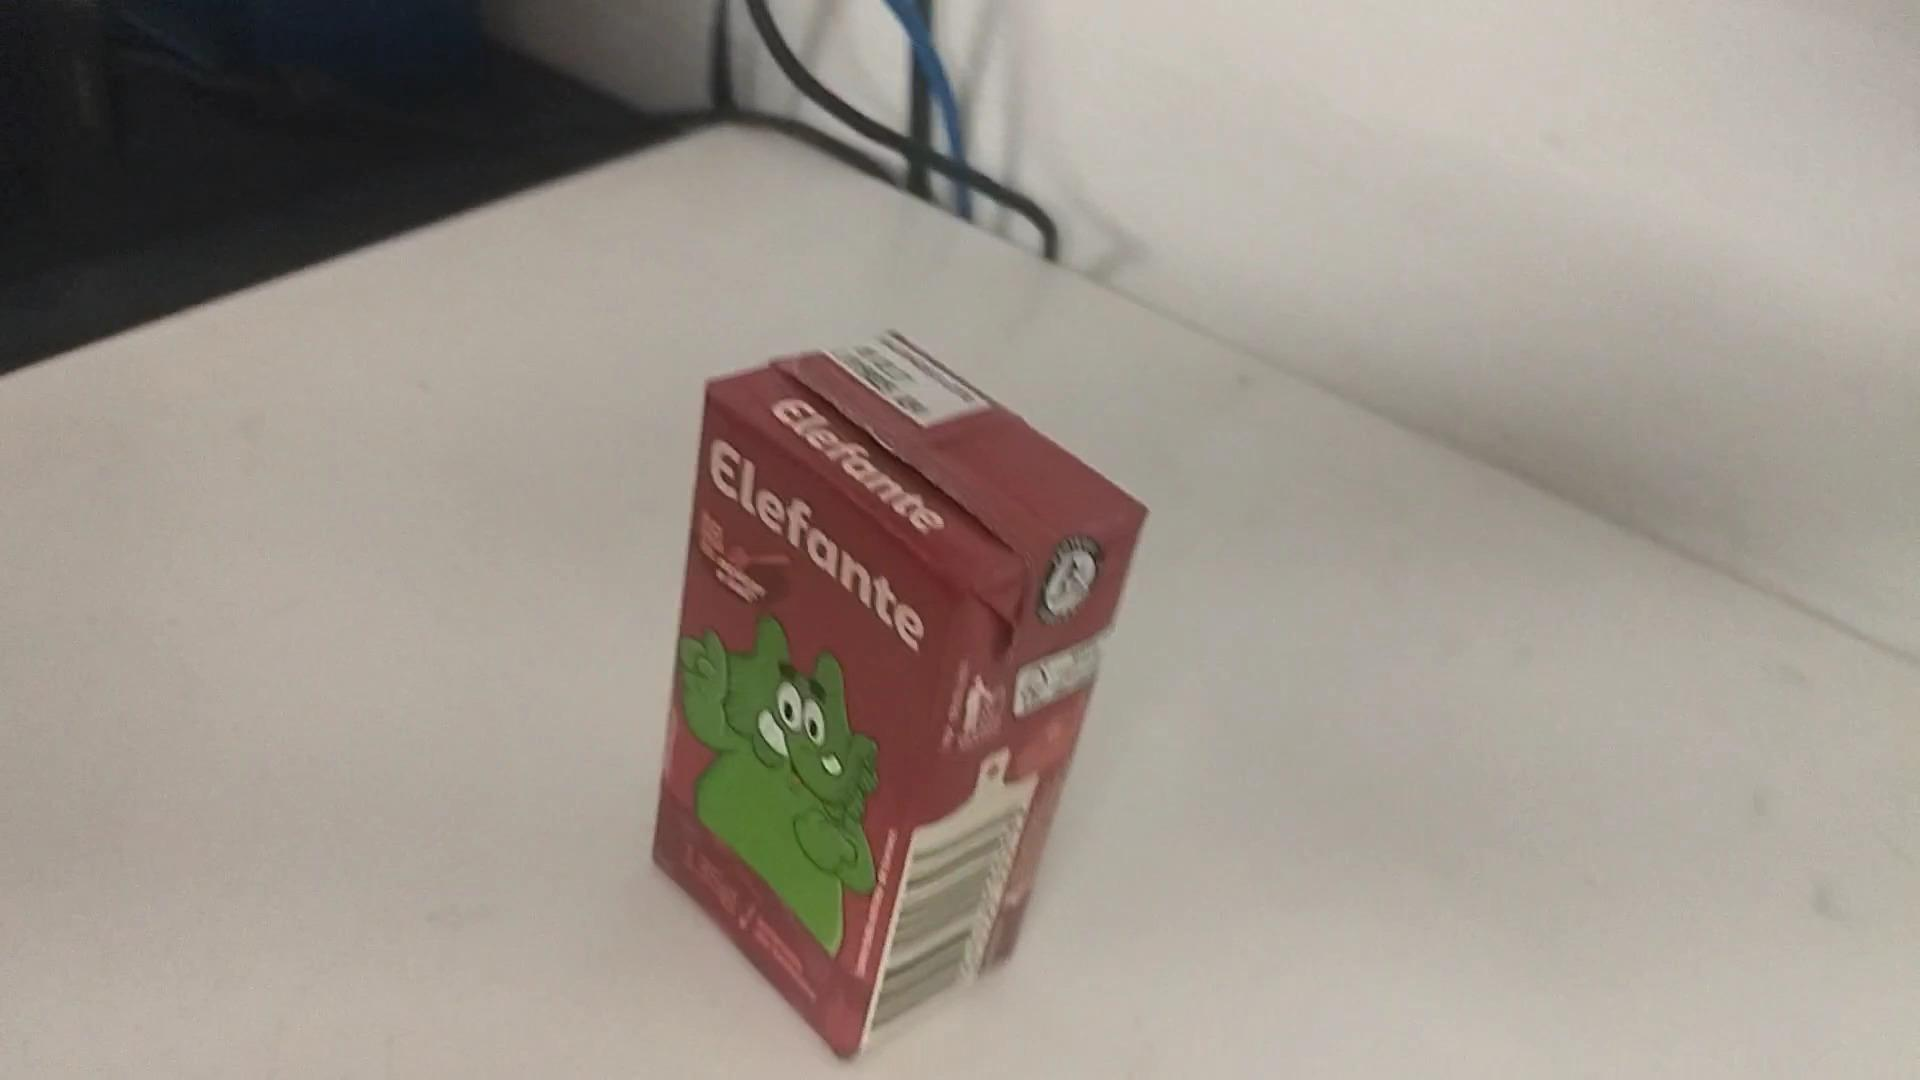tomate: (646, 310, 1166, 1056)
